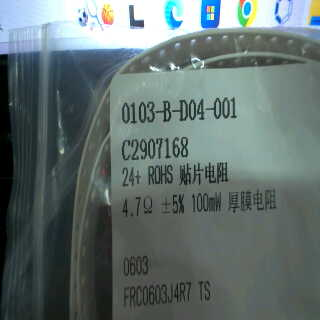4.7R: (117, 195, 154, 221)
